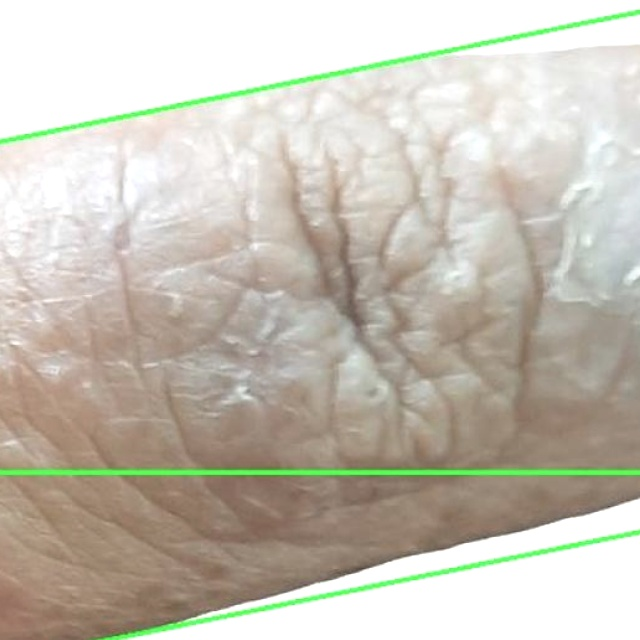Eczema: (0, 13, 639, 639)
